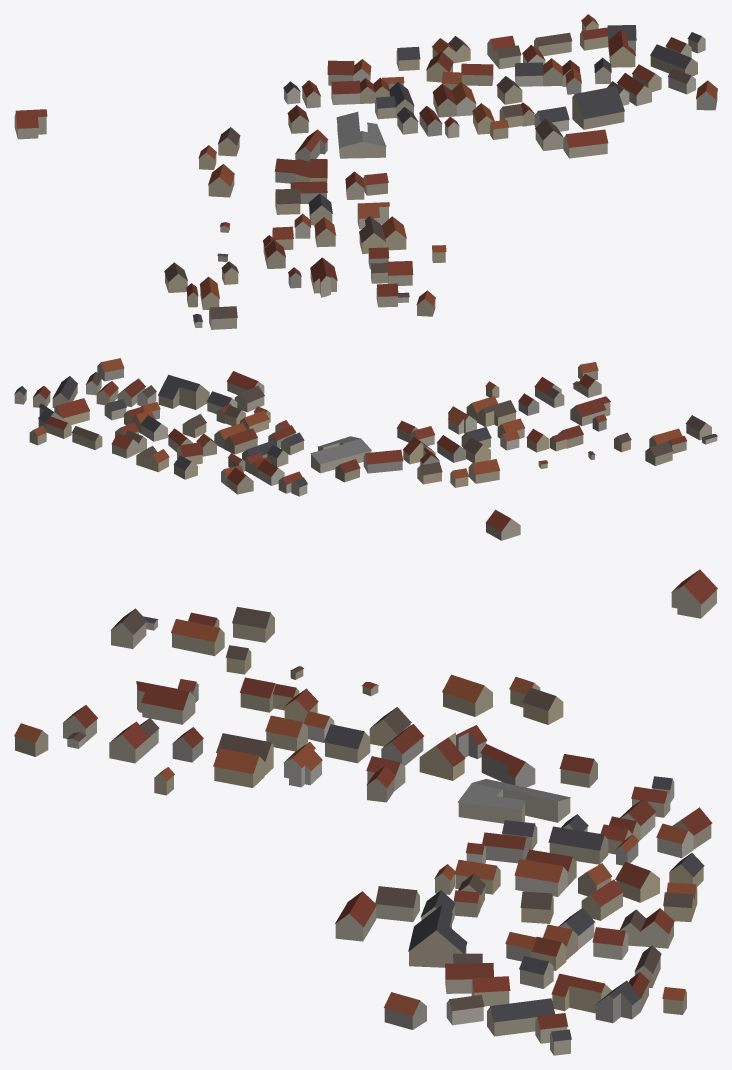
3 renders of one model, top to bottom at view 1: azimuth 30°, elevation 25°; view 2: azimuth 150°, elevation 25°; view 3: azimuth 270°, elevation 25°, orthographic. The views are drawn at different scales.
Parts seen in each view (by area): view 1: buildings; view 2: buildings; view 3: buildings.
Boxes of the visible parts, left/top/right/bottom form: buildings: left=14, top=14, right=717, bottom=329; buildings: left=14, top=358, right=717, bottom=540; buildings: left=14, top=569, right=717, bottom=1055.
Size of the model in its own units: 376 by 30.94 by 257.
